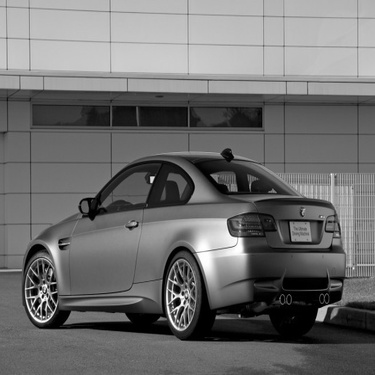car: (15, 143, 349, 342)
